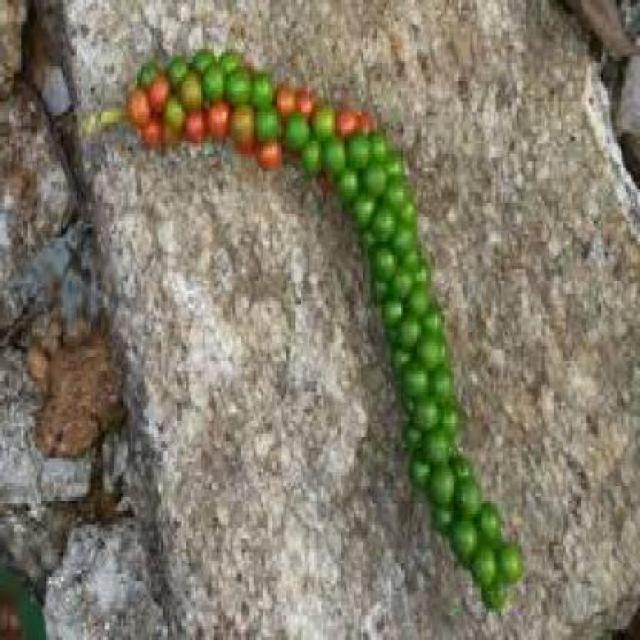RIPE: (100, 25, 400, 176)
UNRIPE: (353, 213, 515, 598)
